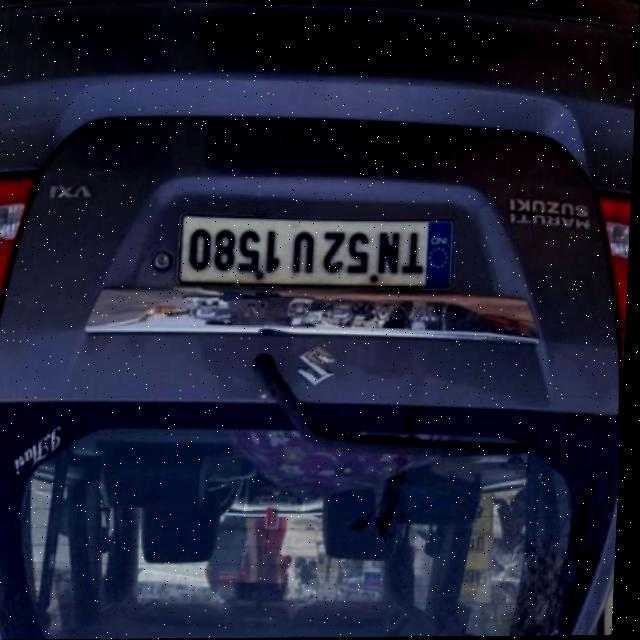plate: (178, 213, 459, 295)
